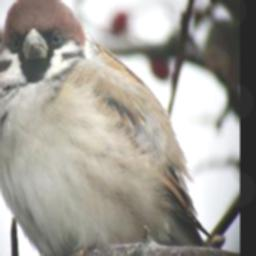Sparrow: (0, 0, 213, 256)
